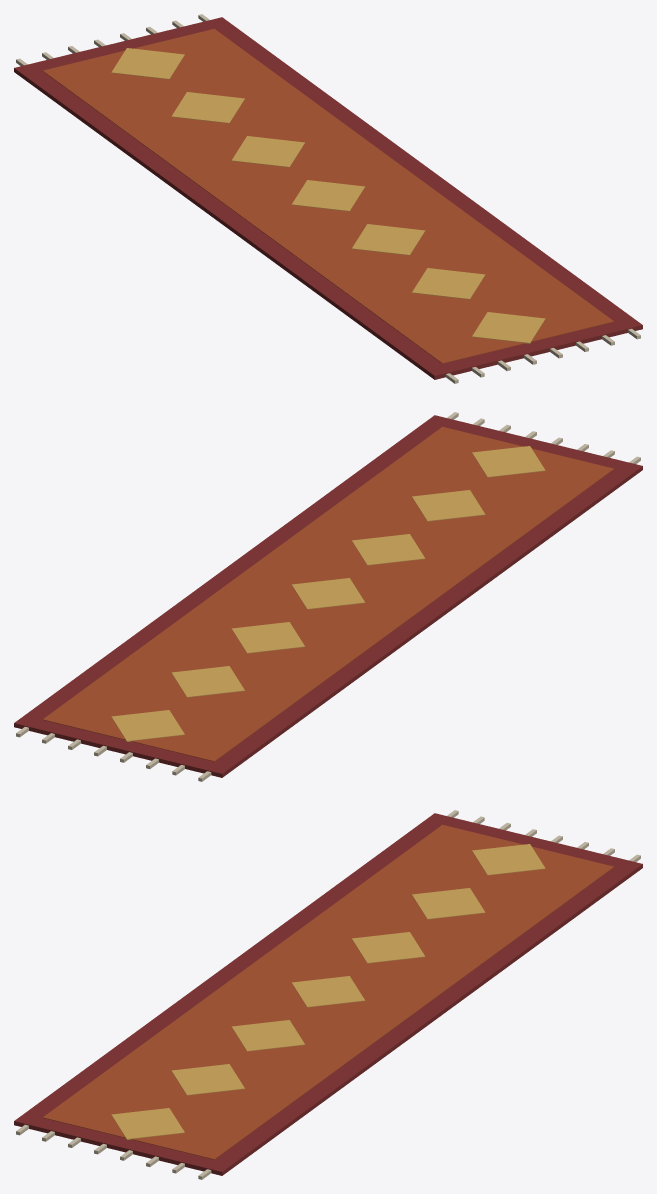
The model's file is hall_runner.glb.
3 views of the same model, one above another, from view 1: azimuth 30°, elevation 25°; view 2: azimuth 150°, elevation 25°; view 3: azimuth 330°, elevation 25° (orthographic).
Visible parts, largest first — view 1: furniture-hall_runner; view 2: furniture-hall_runner; view 3: furniture-hall_runner.
Part boxes in pixels (x1,y1,x2,y2): furniture-hall_runner: [14, 14, 642, 383]; furniture-hall_runner: [14, 412, 642, 781]; furniture-hall_runner: [14, 810, 642, 1179].
Bounding box in the file's own units: 0.7972 × 0.0188 × 2.91.
